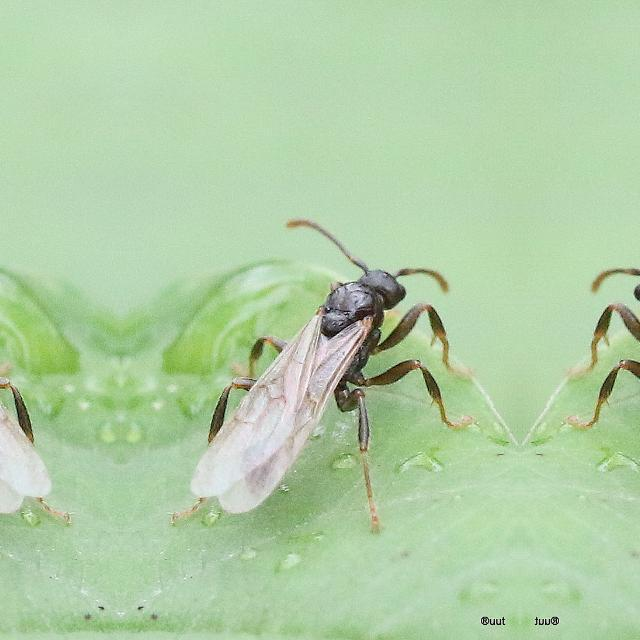Myrmica: (211, 196, 473, 526), (566, 194, 640, 526)
